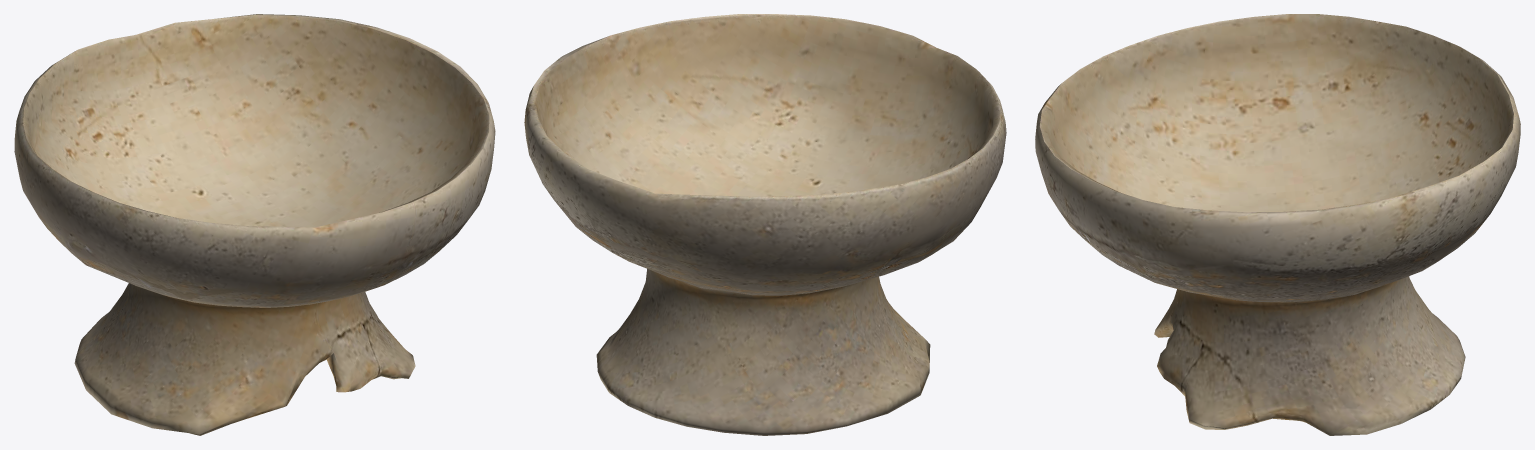
Rendered from antiquity7_74.fbx.
3 renders of one model, left to right at view 1: azimuth 30°, elevation 25°; view 2: azimuth 150°, elevation 25°; view 3: azimuth 270°, elevation 25°, orthographic.
Visible parts, largest first — view 1: default22; view 2: default22; view 3: default22.
Part boxes in pixels (x1,y1,x2,y2): default22: [14, 14, 495, 435]; default22: [524, 14, 1006, 435]; default22: [1035, 14, 1520, 435].
Size of the model in its own units: 38.47 by 23.11 by 38.28.
1 material, 1 textured.
